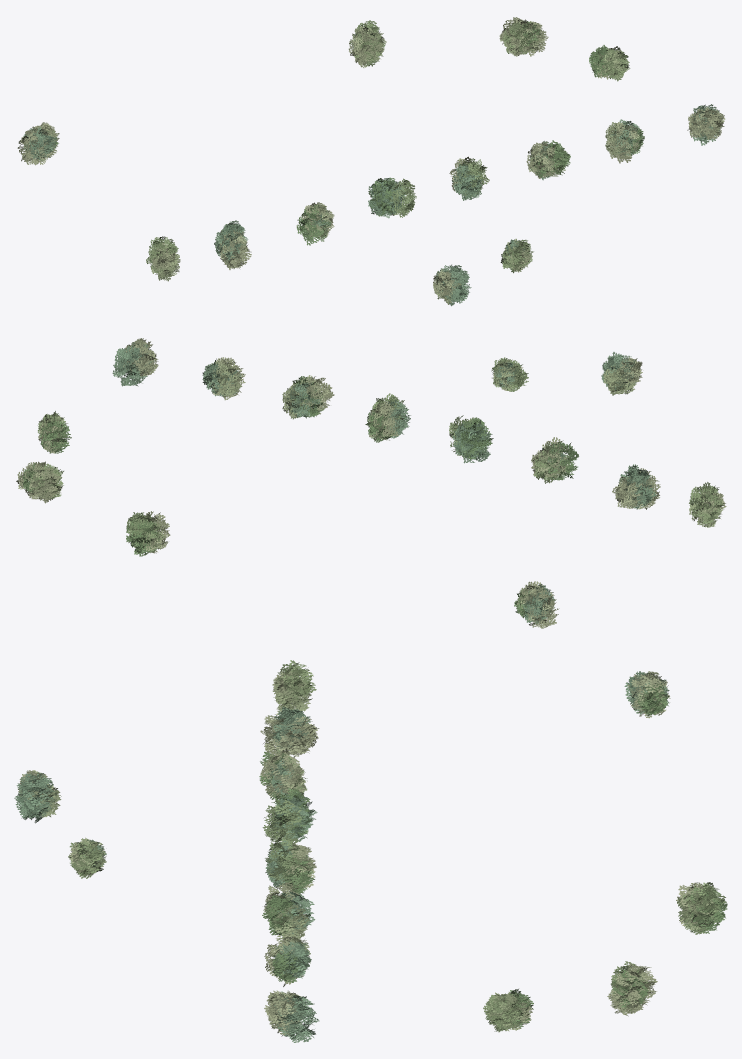
The model's file is campus-tree--4_-3-near.glb.
3 views of the same model, one above another, from view 1: azimuth 30°, elevation 25°; view 2: azimuth 150°, elevation 25°; view 3: azimuth 270°, elevation 25° (orthographic). The views are drawn at different scales.
Visible parts, largest first — view 1: Campus leaf canopy; view 2: Campus leaf canopy; view 3: Campus leaf canopy.
Part boxes in pixels (x1,y1,x2,y2): Campus leaf canopy: [17, 17, 725, 306]; Campus leaf canopy: [16, 338, 726, 628]; Campus leaf canopy: [14, 660, 727, 1042].
Bounding box in the file's own units: 83.2 × 7.32 × 71.63.
1 material, 1 textured.
